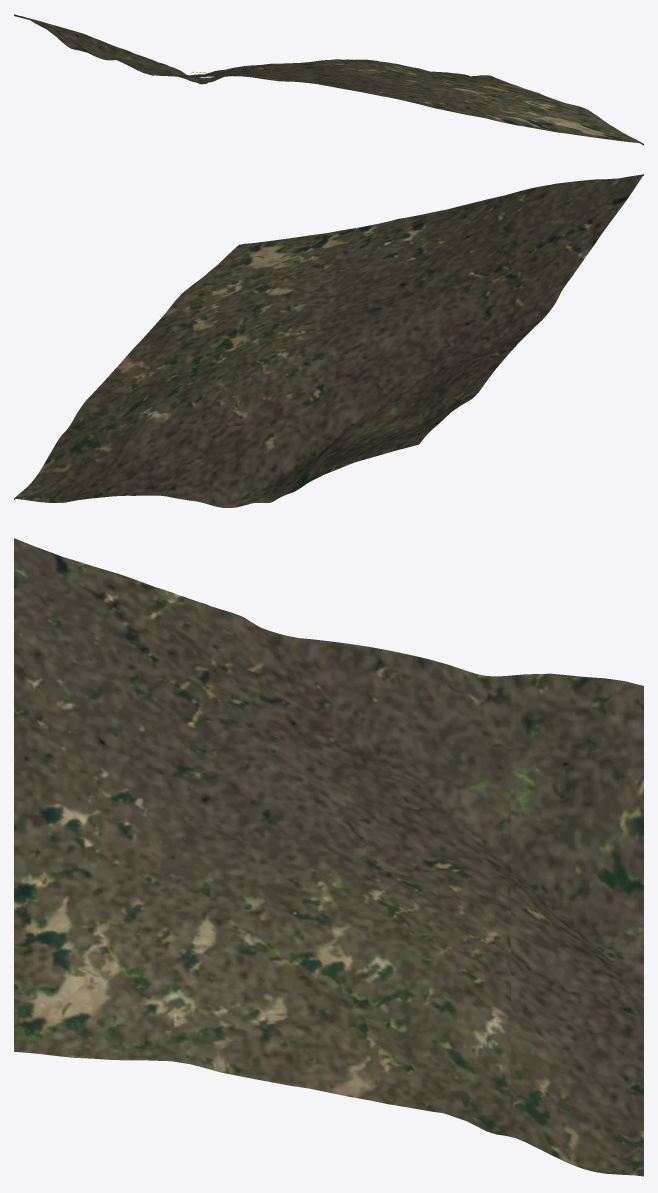
3 views of the same model, one above another, from view 1: azimuth 30°, elevation 25°; view 2: azimuth 150°, elevation 25°; view 3: azimuth 270°, elevation 25° (orthographic). The views are drawn at different scales.
Size of the model in its own units: 250 by 153 by 241.
1 material, 1 textured.
